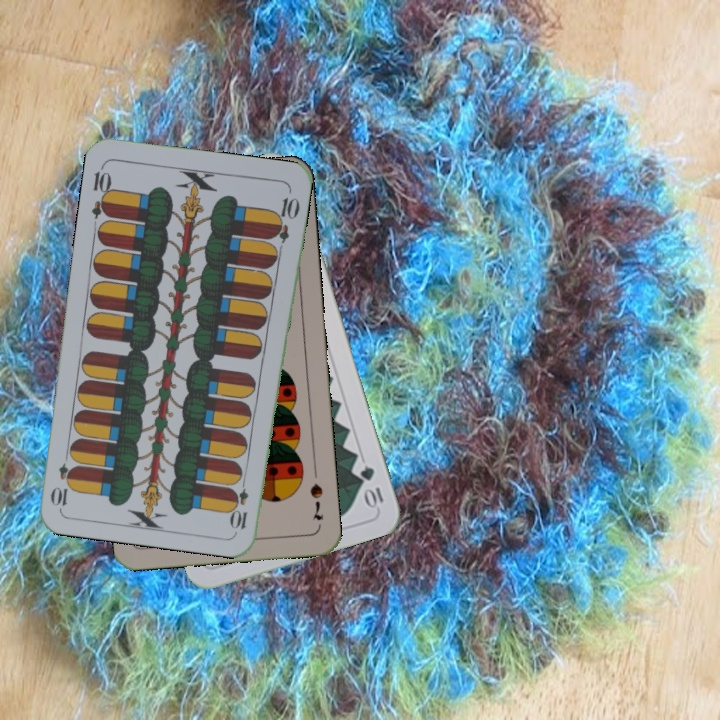E10: (88, 161, 115, 220), (230, 473, 251, 532)
G10: (356, 462, 386, 511)
S7: (306, 479, 326, 523)
